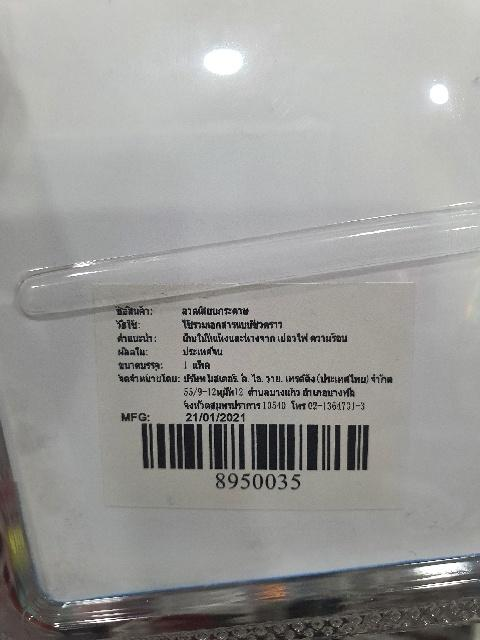Barcode: (137, 418, 380, 492)
